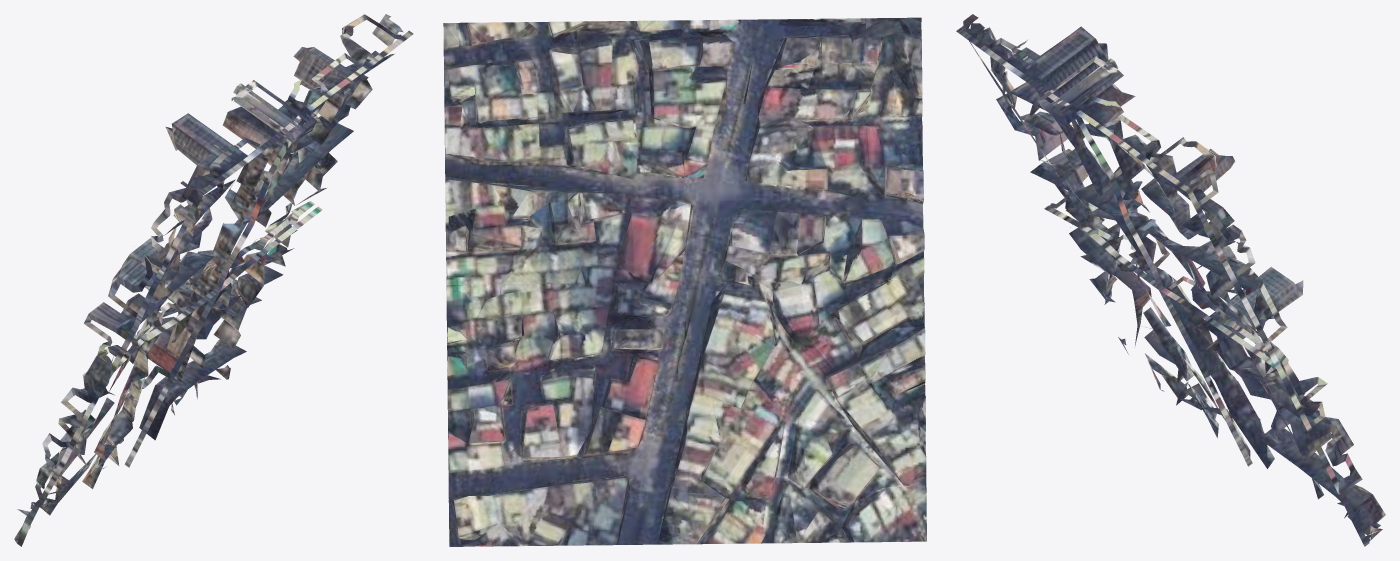
3 views of the same model, side by side, from view 1: azimuth 30°, elevation 25°; view 2: azimuth 150°, elevation 25°; view 3: azimuth 270°, elevation 25° (orthographic). The views are drawn at different scales.
Size of the model in its own units: 307 by 295 by 268.
1 material, 1 textured.
